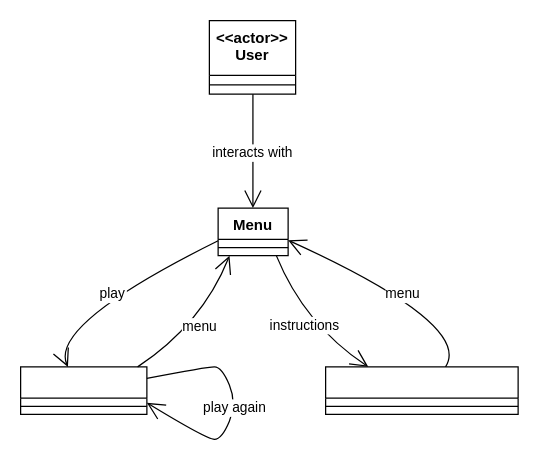
This 539x460 diagram has some shape labels left out. The shapes that lost their labels are listed below. From the top down, each one's box as (x1, y1, x2, y2) in pixels, then its label:
(19, 366, 147, 414): GameWorld
(324, 366, 518, 414): InstructionsScreen
